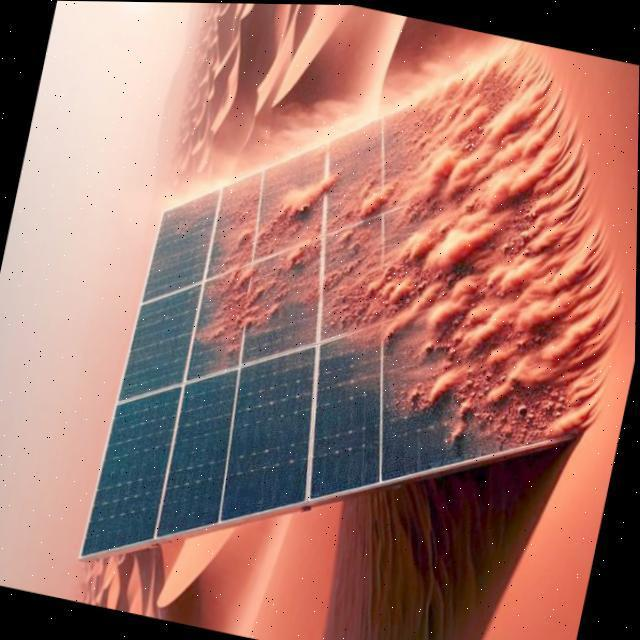Anomaly Solar Panel: (16, 48, 586, 558)
Surface Contaminant: (136, 52, 576, 499)
